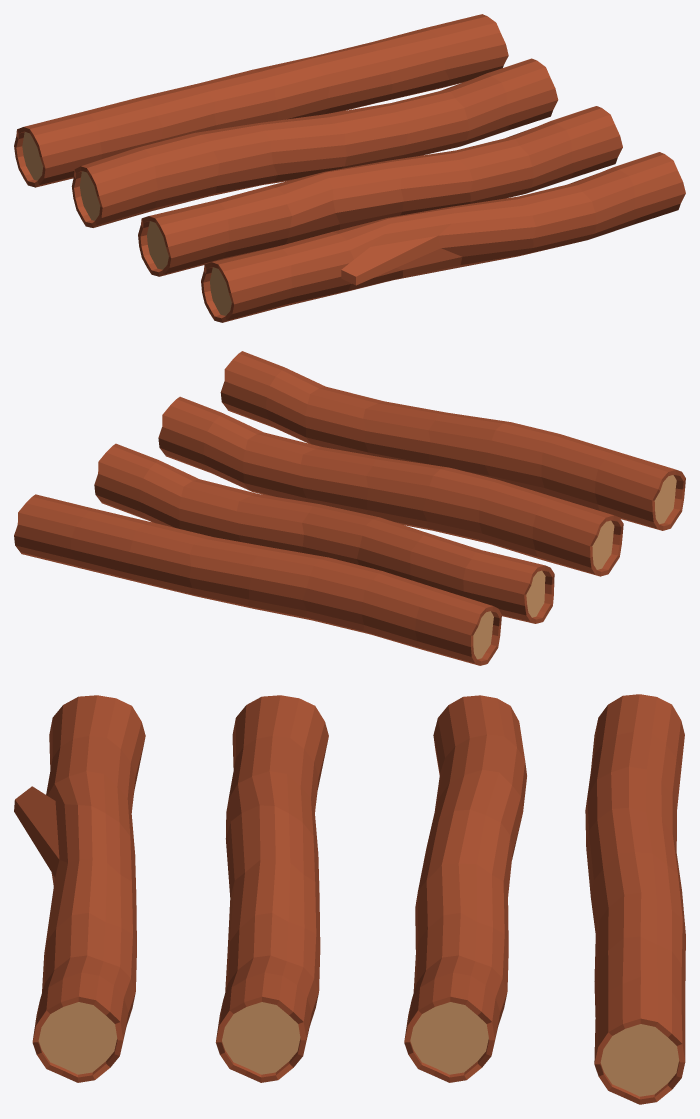
The model's file is trunks.fbx.
3 renders of one model, top to bottom at view 1: azimuth 30°, elevation 25°; view 2: azimuth 150°, elevation 25°; view 3: azimuth 270°, elevation 25°, orthographic. The views are drawn at different scales.
Visible parts, largest first — view 1: Cylinder.001, Cylinder.003, Cylinder.002, Cylinder; view 2: Cylinder, Cylinder.002, Cylinder.003, Cylinder.001; view 3: Cylinder, Cylinder.003, Cylinder.002, Cylinder.001.
Part boxes in pixels (x1,y1,x2,y2): Cylinder.001: [71, 58, 558, 227]; Cylinder.003: [201, 152, 685, 322]; Cylinder.002: [138, 106, 622, 276]; Cylinder: [14, 14, 508, 187]; Cylinder: [14, 494, 501, 665]; Cylinder.002: [158, 396, 623, 576]; Cylinder.003: [220, 351, 685, 530]; Cylinder.001: [94, 443, 554, 623]; Cylinder: [585, 694, 685, 1104]; Cylinder.003: [14, 695, 145, 1082]; Cylinder.002: [215, 695, 328, 1082]; Cylinder.001: [404, 695, 526, 1082].
Bounding box in the file's own units: 1730 × 239 × 1486.
